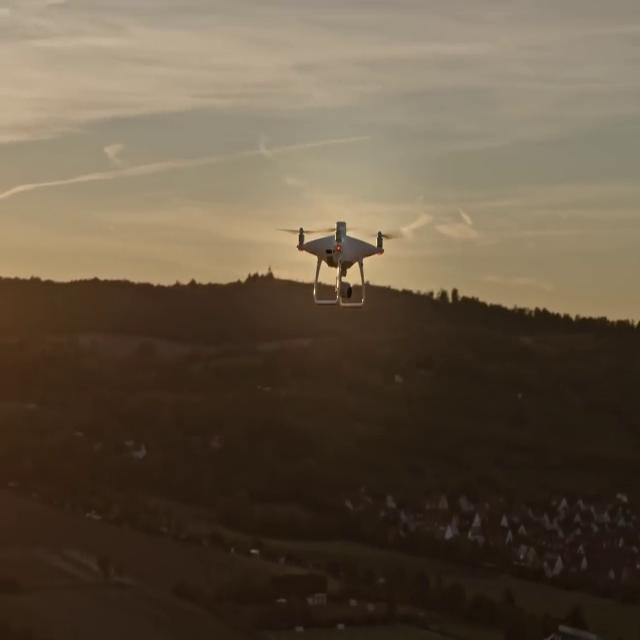drone: (275, 218, 404, 313)
